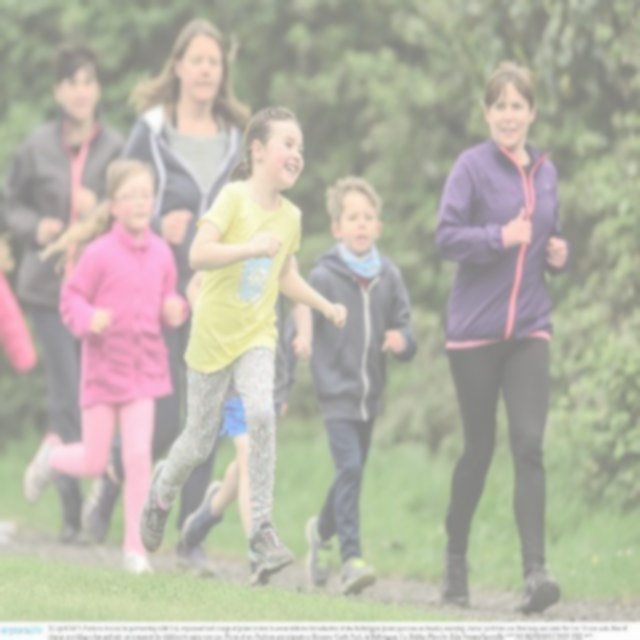pessoa: (128, 93, 350, 598), (79, 13, 257, 583), (430, 59, 577, 626), (16, 152, 198, 587), (2, 33, 130, 545), (276, 175, 419, 598), (178, 158, 303, 586)
